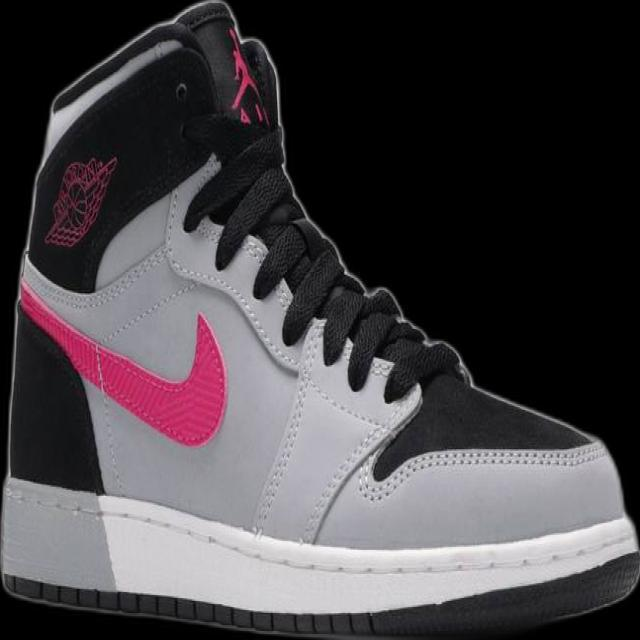J1_InsoleChar: (0, 0, 639, 639)
J1_ShoeLogo: (16, 285, 229, 447), (42, 153, 118, 249)
J1_StitchPattern: (191, 26, 437, 542), (0, 474, 639, 635), (183, 131, 473, 401), (2, 572, 376, 638), (356, 437, 608, 502), (248, 317, 320, 536), (404, 442, 606, 473), (223, 24, 271, 129)
